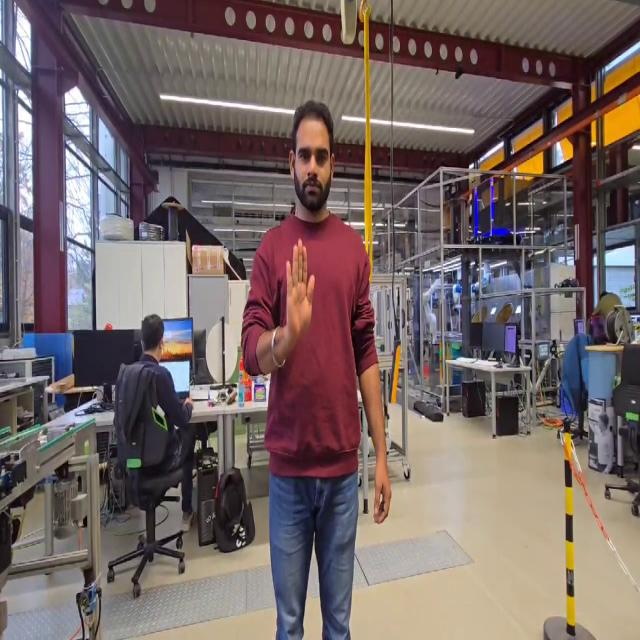open_palm: (279, 234, 319, 356)
